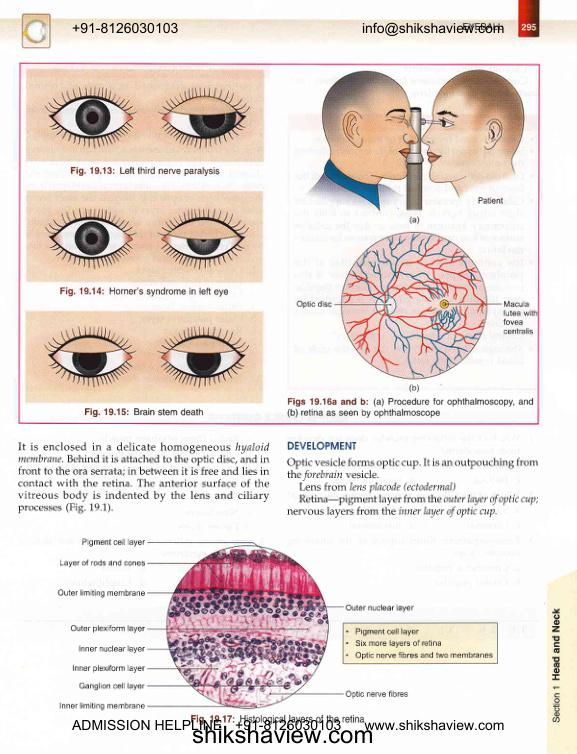caption: (285, 395, 535, 420), (59, 285, 231, 298), (69, 165, 221, 178), (190, 713, 366, 724), (83, 406, 205, 419), (408, 383, 421, 394), (408, 215, 420, 225)
image: (48, 528, 507, 711), (290, 229, 538, 395), (289, 67, 537, 227), (25, 68, 265, 163), (25, 310, 263, 403), (25, 190, 263, 282)
sub-section-heading: (286, 440, 357, 451)
text: (16, 440, 271, 516), (285, 456, 539, 519)
